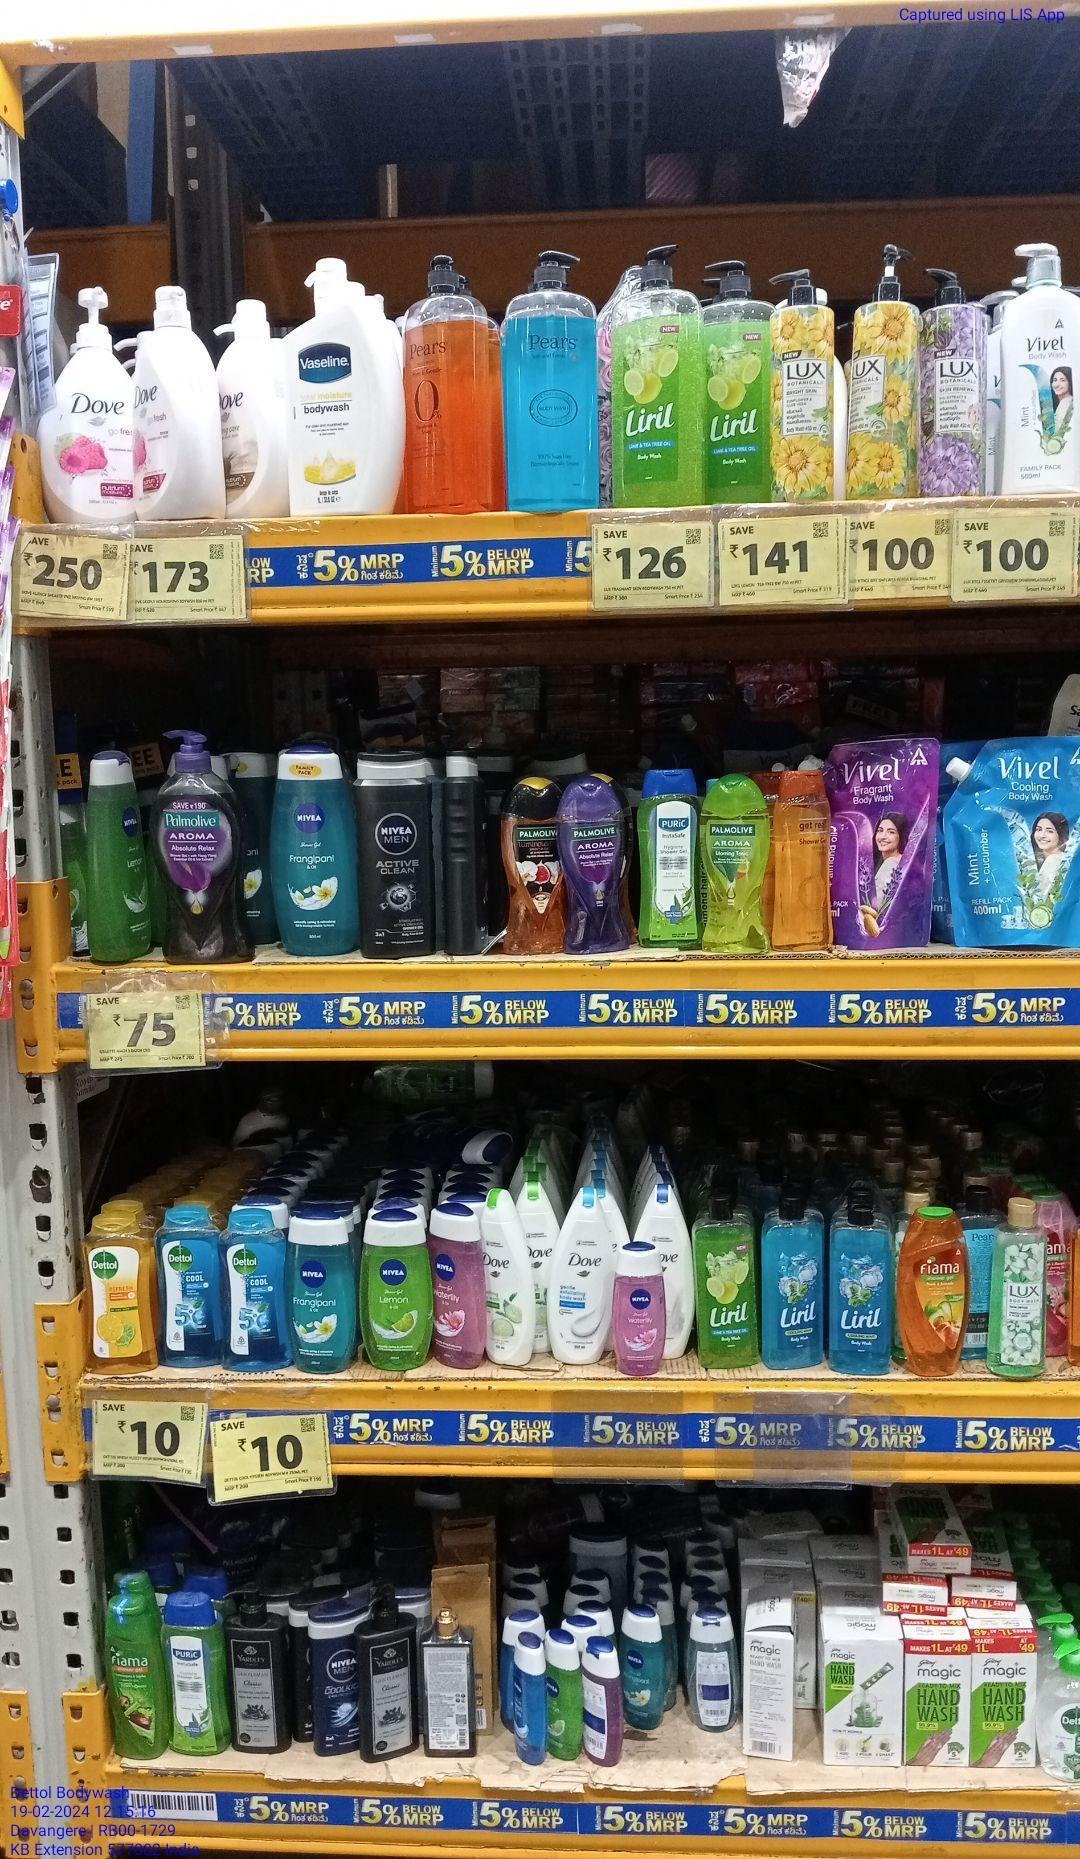Dettol_Bodywash_Cool: (159, 1206, 222, 1368), (228, 1212, 283, 1370)
Dettol_Bodywash_Refresh: (85, 1207, 153, 1374)
Dove_Gentle_Exfoliating_Body_Wash_250ML: (548, 1187, 615, 1363)
Dove_Refreshing_Body_Wash_250ML: (478, 1184, 535, 1361)
Fiama_Shower_Gel_Peach_and_Avocado_250ML: (894, 1206, 972, 1369)
Liril_Cooling_Mint_Body_Wash_250ML: (765, 1197, 831, 1367), (836, 1203, 890, 1377)
Liril_Lime_and_Tea_Tree_Oil_Body_Wash_250ML: (698, 1197, 760, 1364)
Lux_Body_Wash_Skin_Detox_Freesia_Scent_and_Alove_Vera_245ML: (999, 1202, 1050, 1381)
Nivea_Shower_Gel_Frangipani_and_Oil_250ML: (276, 1208, 359, 1365)
Nivea_Shower_Gel_Lemon_and_Oil_250ML: (366, 1212, 427, 1370)
Nivea_Shower_Gel_Waterlily_and_Oil_250ML: (428, 1203, 480, 1368), (615, 1239, 666, 1372)
Palmolive_Aroma_Morning_Tonic_Shower_Gel_250ML: (698, 773, 762, 947)
Palmolive_Aroma_Relax_250ML: (558, 777, 630, 951)
Palmolive_Luminous_Oils_With_White_Orchid_Shower_Gel_250ML: (501, 778, 559, 958)
